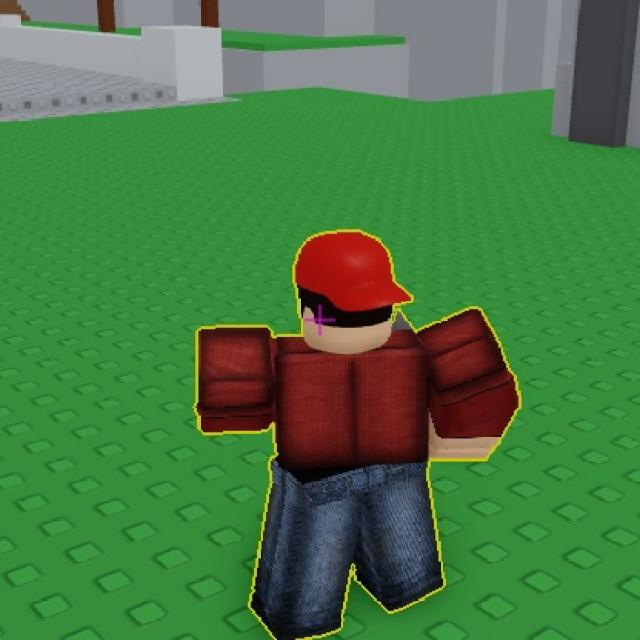player: (238, 231, 431, 612)
